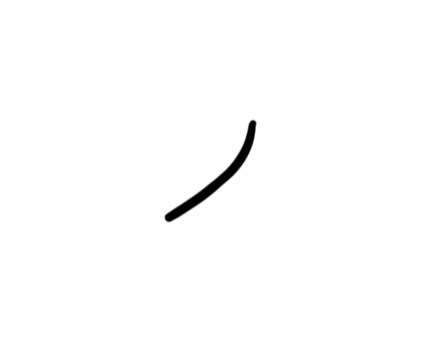no: (155, 114, 260, 227)
